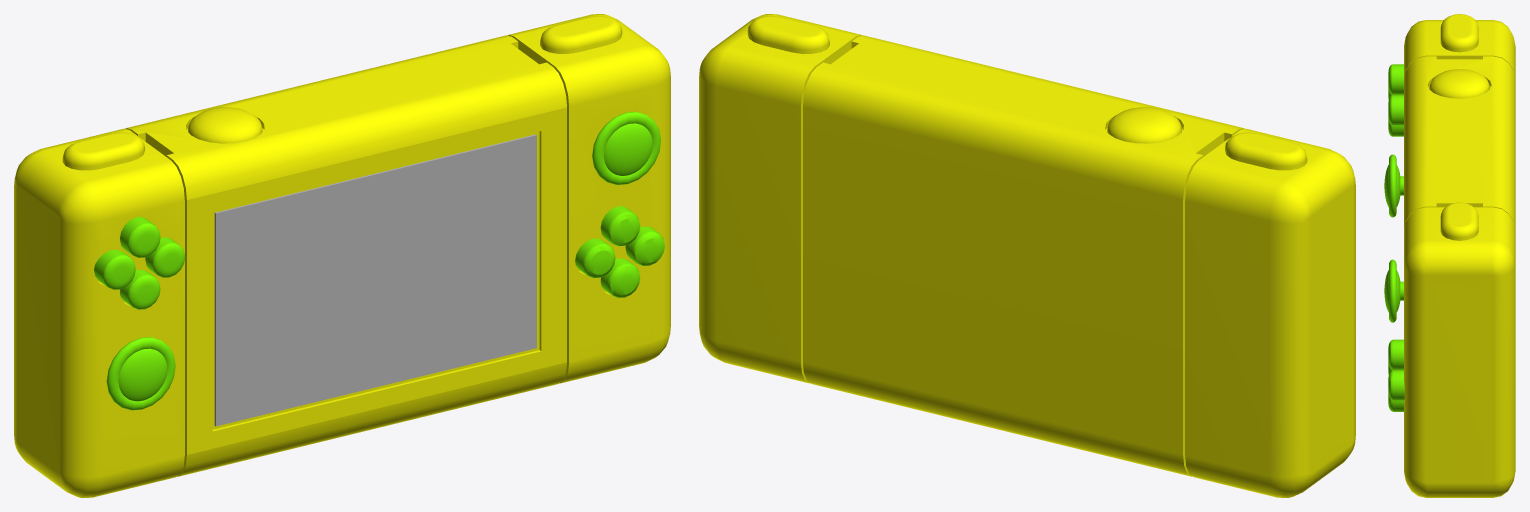
The model's file is NintendoSwitch.fbx.
3 renders of one model, left to right at view 1: azimuth 30°, elevation 25°; view 2: azimuth 150°, elevation 25°; view 3: azimuth 270°, elevation 25°, orthographic. The views are drawn at different scales.
Visible parts, largest first — view 1: Screen, Frame, LeftJoystick, RightJoystick, LeftButton3, RightButton3, RightButton2, LeftButton2, LeftButton, RightButton, CentralButton; view 2: Frame, LeftJoystick, RightJoystick, LeftButton, RightButton, CentralButton; view 3: RightJoystick, Frame, LeftJoystick, CentralButton, RightButton, LeftButton, RightButton3, LeftButton3, LeftButton2, RightButton2.
Part boxes in pixels (bbox=[...]): Screen: bbox=[214, 134, 536, 426]; Frame: bbox=[125, 35, 566, 476]; LeftJoystick: bbox=[14, 128, 184, 497]; RightJoystick: bbox=[508, 14, 670, 383]; LeftButton3: bbox=[94, 217, 185, 309]; RightButton3: bbox=[575, 206, 664, 297]; RightButton2: bbox=[592, 111, 660, 184]; LeftButton2: bbox=[106, 337, 175, 410]; LeftButton: bbox=[62, 132, 144, 170]; RightButton: bbox=[540, 16, 622, 53]; CentralButton: bbox=[188, 107, 262, 143]; Frame: bbox=[803, 35, 1244, 476]; LeftJoystick: bbox=[1185, 128, 1355, 497]; RightJoystick: bbox=[699, 14, 861, 383]; LeftButton: bbox=[1225, 132, 1307, 170]; RightButton: bbox=[747, 16, 829, 53]; CentralButton: bbox=[1107, 107, 1181, 143]; RightJoystick: bbox=[1404, 207, 1515, 497]; Frame: bbox=[1404, 56, 1515, 230]; LeftJoystick: bbox=[1404, 20, 1515, 79]; CentralButton: bbox=[1429, 69, 1489, 98]; RightButton: bbox=[1440, 202, 1478, 240]; LeftButton: bbox=[1440, 14, 1478, 52]; RightButton3: bbox=[1388, 339, 1404, 411]; LeftButton3: bbox=[1388, 64, 1403, 136]; LeftButton2: bbox=[1384, 154, 1403, 217]; RightButton2: bbox=[1384, 259, 1403, 322].
Size of the model in its own units: 151 by 78.05 by 34.9.
